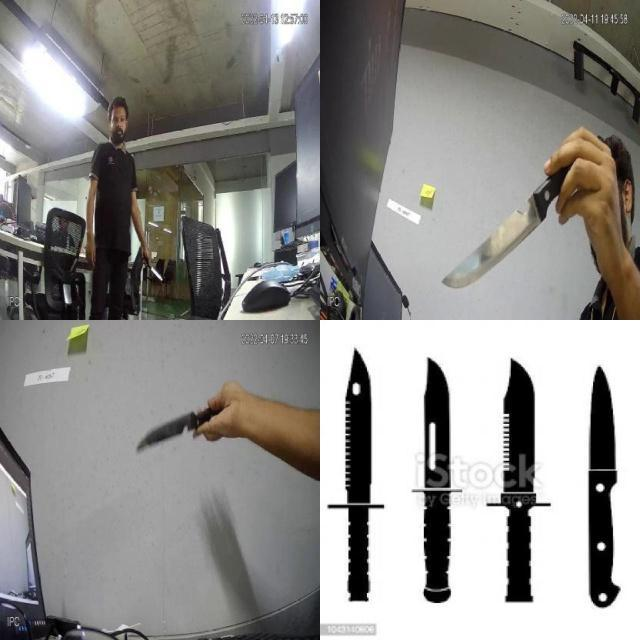-: (482, 344, 555, 539), (330, 349, 403, 544), (441, 193, 557, 289), (411, 347, 459, 553), (583, 357, 632, 523), (131, 395, 223, 459), (146, 262, 165, 285)
